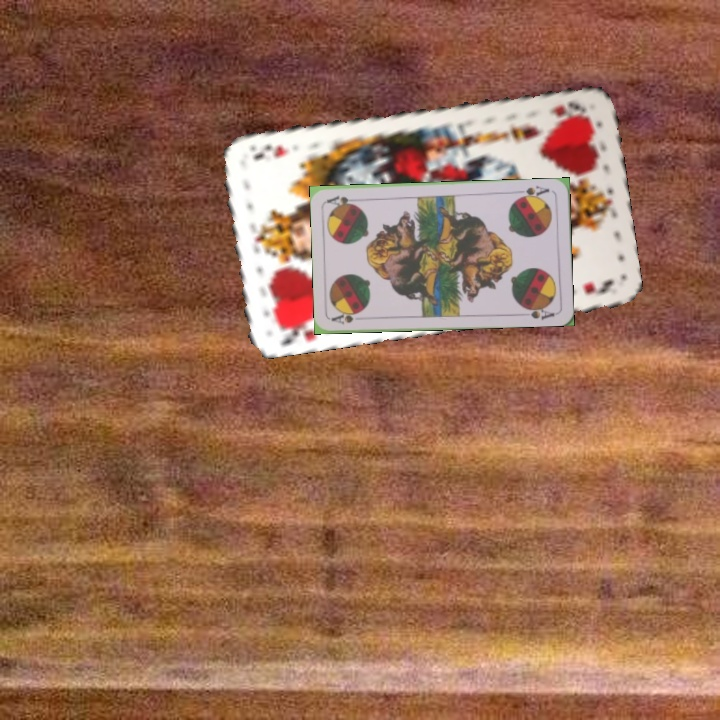HK: (275, 316, 321, 348), (545, 97, 589, 119)
SA: (513, 181, 551, 202), (328, 308, 369, 327)
